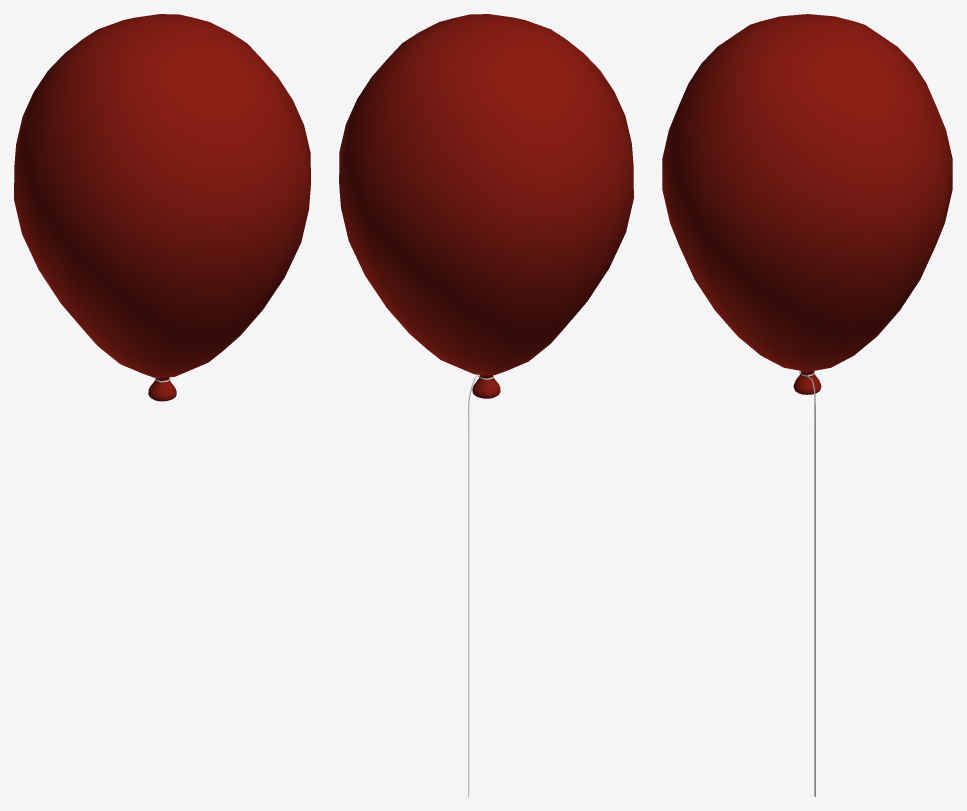
File: RedBalloon.fbx
The picture shows the model from 3 angles, left to right: view 1: azimuth 30°, elevation 25°; view 2: azimuth 150°, elevation 25°; view 3: azimuth 270°, elevation 25°; orthographic projection.
Parts seen in each view (by area): view 1: Object005; view 2: Object005; view 3: Object005.
Part boxes in pixels (<box>): Object005: <box>14,14,310,401</box>; Object005: <box>339,14,633,796</box>; Object005: <box>662,14,952,796</box>.
Size of the model in its own units: 92.85 by 269 by 92.85.
